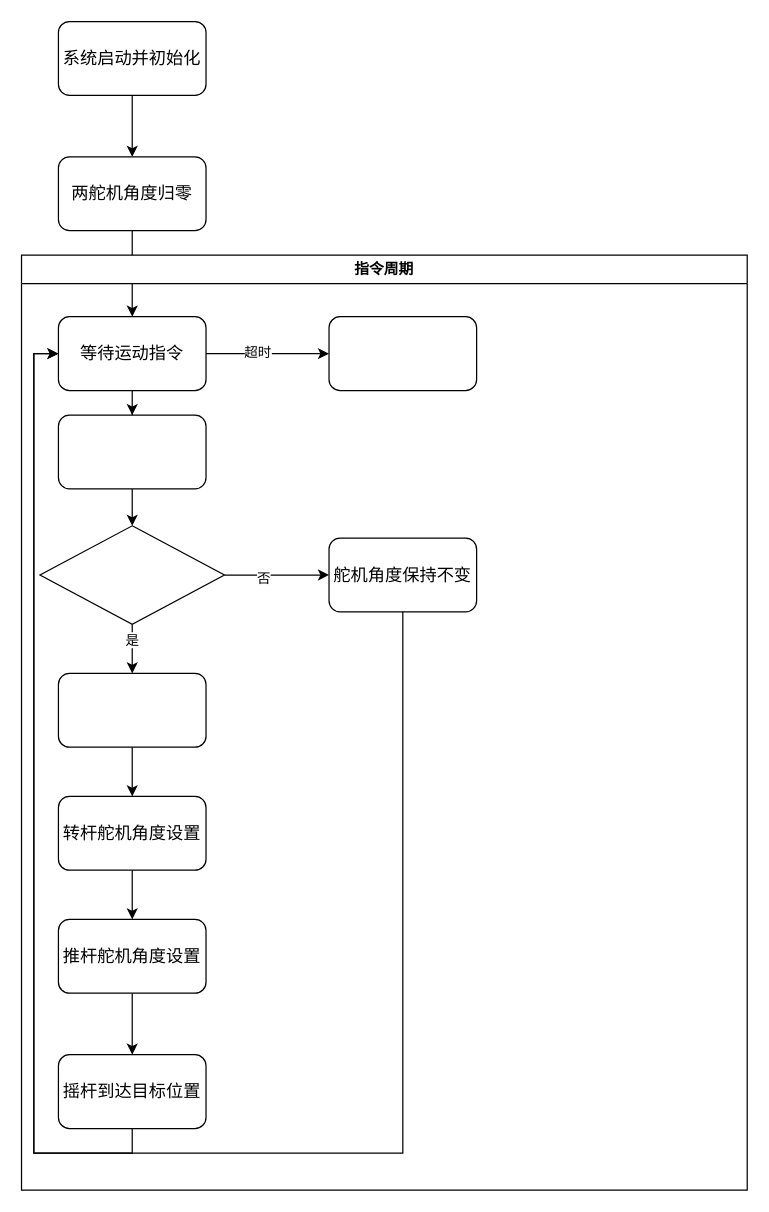
This 769x1212 diagram has some shape labels left out. Here are the shapes that lost their labels. From the top down, the centre of each, then its label:
At pixel 402 353: "两舵机角度归零并上报错误".
At pixel 131 451: "转化为两舵机转动角度".
At pixel 131 574: "与上一周期 角度 不同".
At pixel 131 709: "推杆舵机角度归零".
